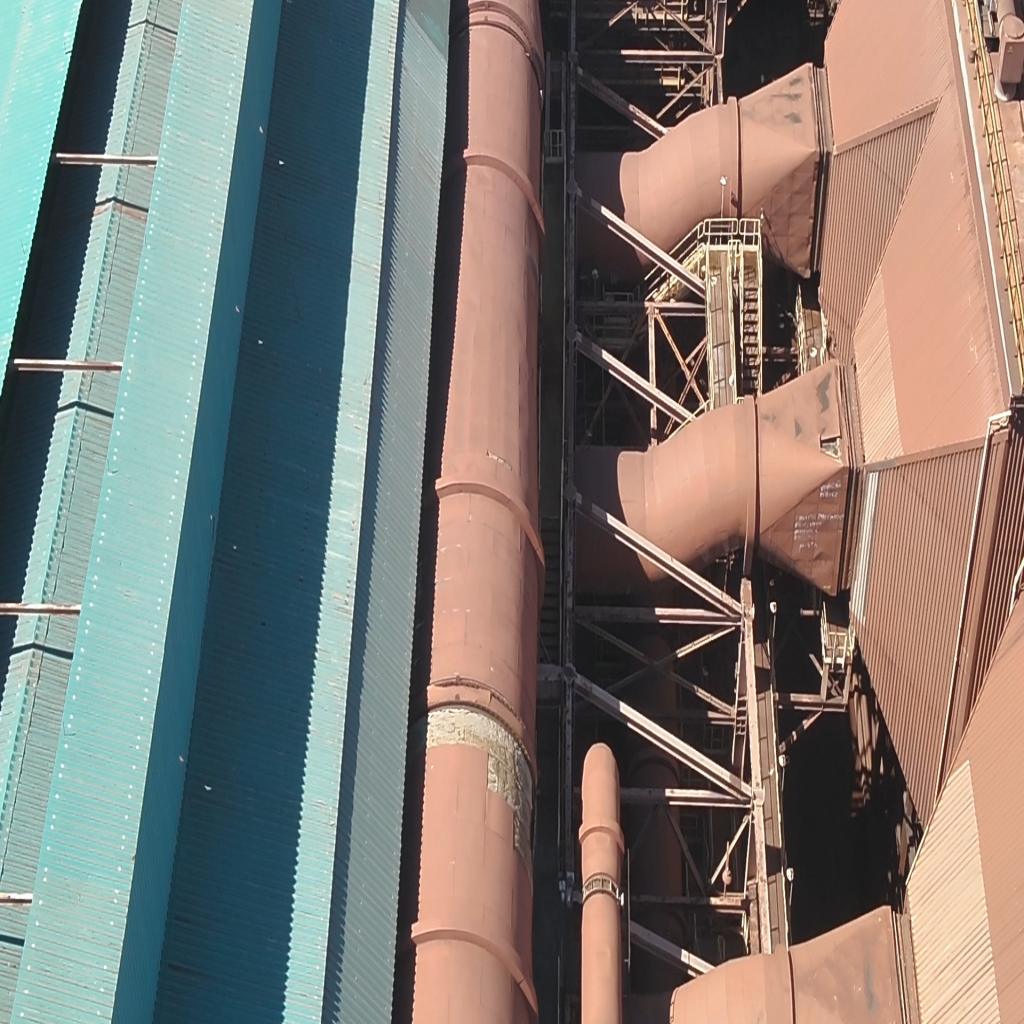Failures: (420, 676, 538, 863), (814, 433, 848, 461)
